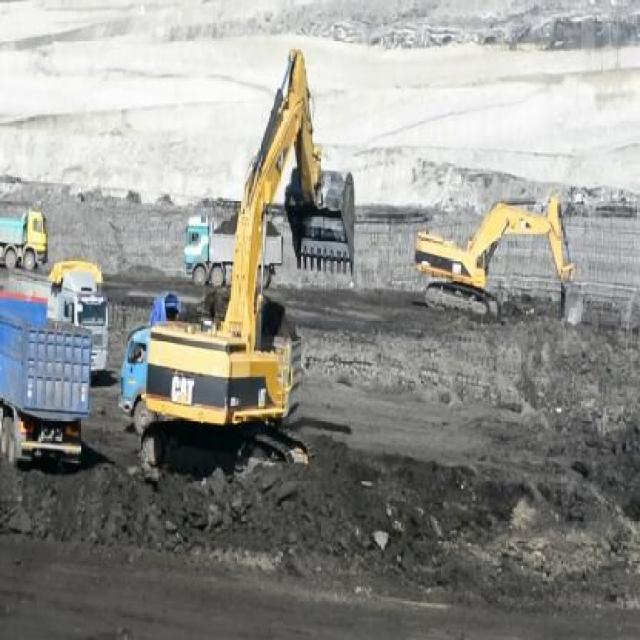Dump Truck: (1, 279, 87, 466), (180, 207, 282, 288), (52, 260, 111, 374), (118, 317, 159, 428), (0, 206, 46, 271)
Excavator: (140, 44, 358, 488), (412, 191, 585, 327)
